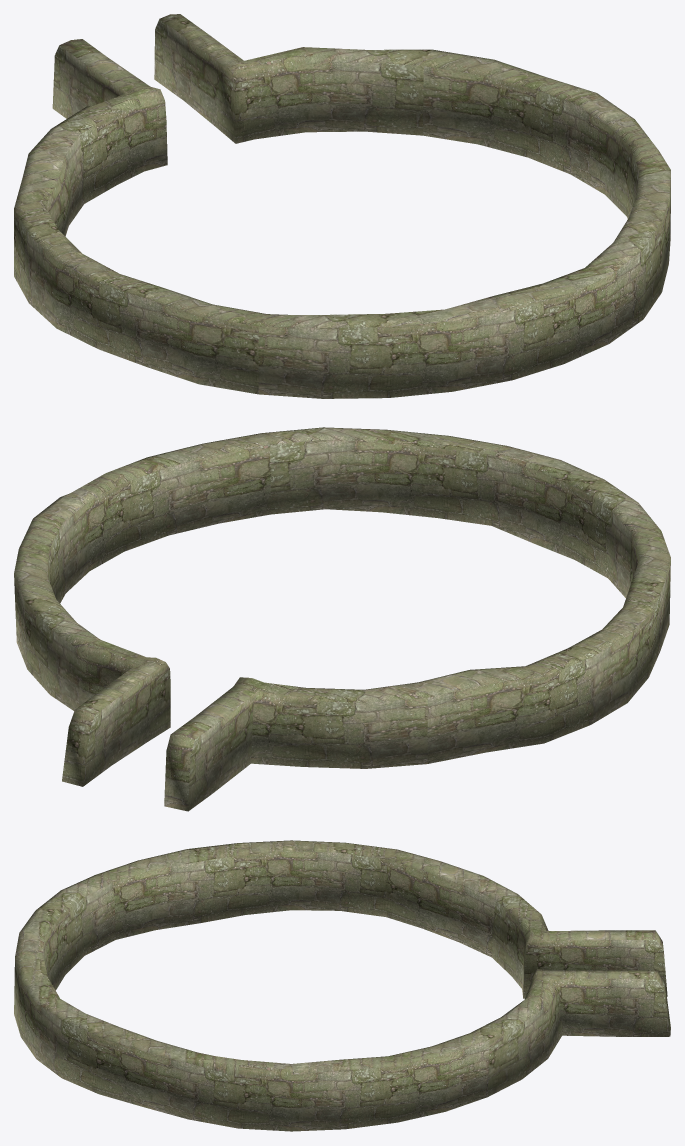
File: SM_Chateaux_07_01.fbx
3 views of the same model, one above another, from view 1: azimuth 30°, elevation 25°; view 2: azimuth 150°, elevation 25°; view 3: azimuth 270°, elevation 25° (orthographic). The views are drawn at different scales.
Parts seen in each view (by area): view 1: SM_Chateaux_07_01; view 2: SM_Chateaux_07_01; view 3: SM_Chateaux_07_01.
Part boxes in pixels (x1,y1,x2,y2): SM_Chateaux_07_01: [14, 14, 670, 398]; SM_Chateaux_07_01: [14, 427, 670, 811]; SM_Chateaux_07_01: [14, 840, 670, 1131].
Bounding box in the file's own units: 2276 × 286 × 2694.
